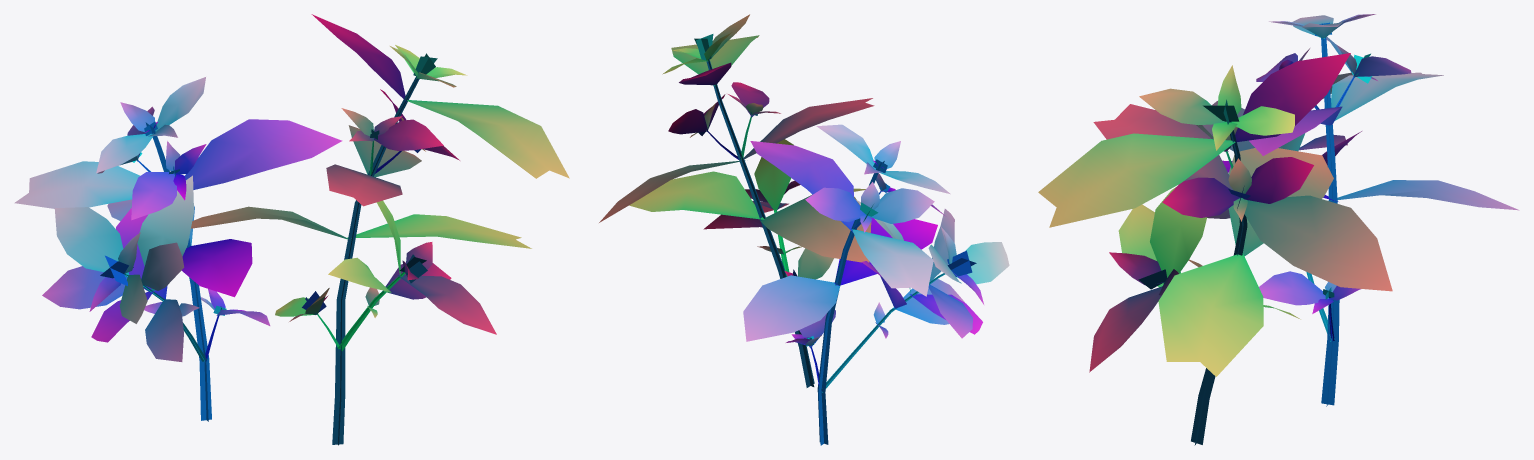
The model's file is Common_Hemp_Nettle_xh1kdfbqx_Mid_xh1kdfbqx_VarC_LOD1.fbx.
The picture shows the model from 3 angles, left to right: view 1: azimuth 30°, elevation 25°; view 2: azimuth 150°, elevation 25°; view 3: azimuth 270°, elevation 25°; orthographic projection. The views are drawn at different scales.
Visible parts, largest first — view 1: _abnf_VarC_LOD3; view 2: _abnf_VarC_LOD3; view 3: _abnf_VarC_LOD3.
Part boxes in pixels (x1,y1,x2,y2): _abnf_VarC_LOD3: (14,14,569,445); _abnf_VarC_LOD3: (599,14,1009,445); _abnf_VarC_LOD3: (1038,14,1519,445).
Bounding box in the file's own units: 89.38 × 75.47 × 79.17.
